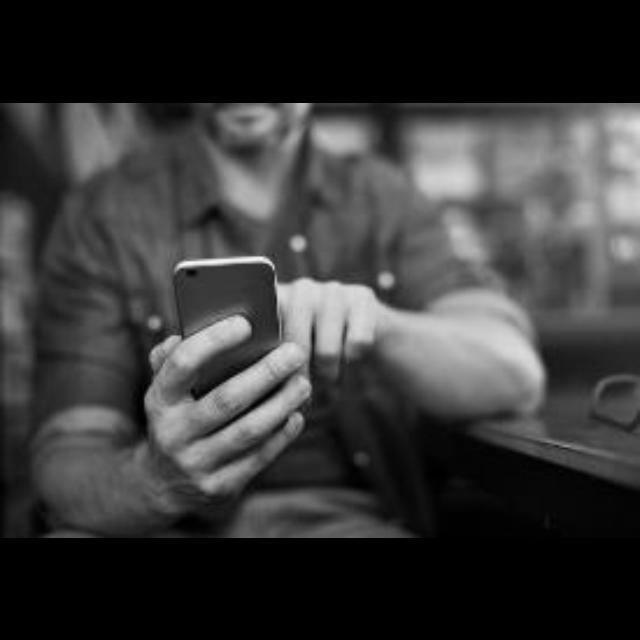fake: (146, 224, 310, 422)
